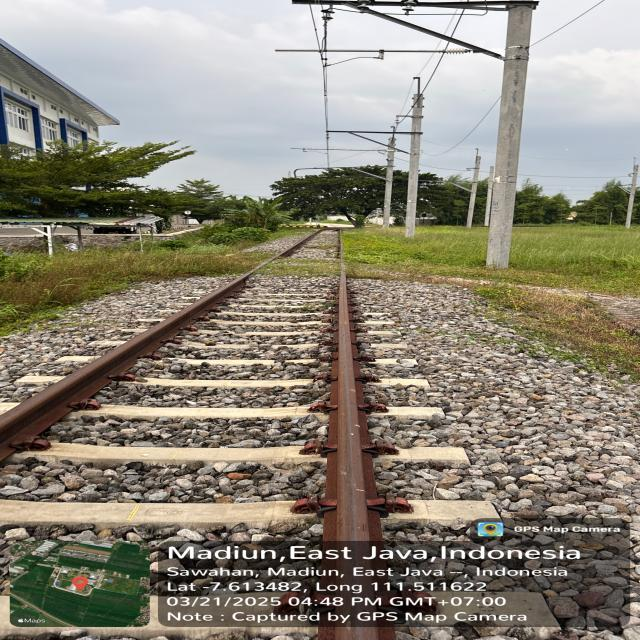rail-detection: (0, 272, 252, 460), (315, 266, 394, 640), (245, 230, 324, 276), (338, 231, 347, 315)
